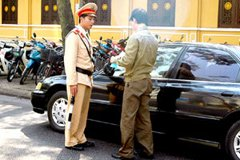police: (59, 1, 100, 152)
